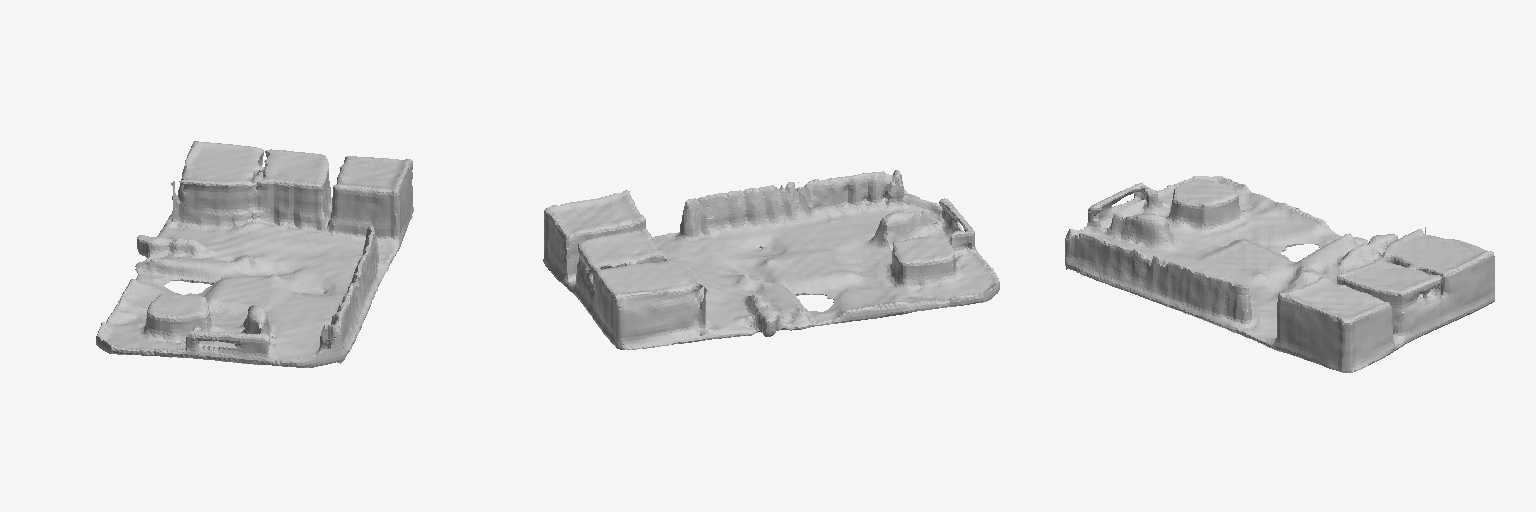
Rendered from replicate-prediction-5ptk533y4nrgm0cf8ywsnxjnsg-2.obj.
The picture shows the model from 3 angles: view 1: azimuth 30°, elevation 25°; view 2: azimuth 150°, elevation 25°; view 3: azimuth 270°, elevation 25°; orthographic projection.
Bounding box in the file's own units: 1.98 × 0.3158 × 1.95.